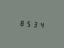eight: (18, 18, 23, 27)
five: (24, 19, 29, 27)
four: (36, 20, 41, 28)
three: (30, 19, 35, 28)
